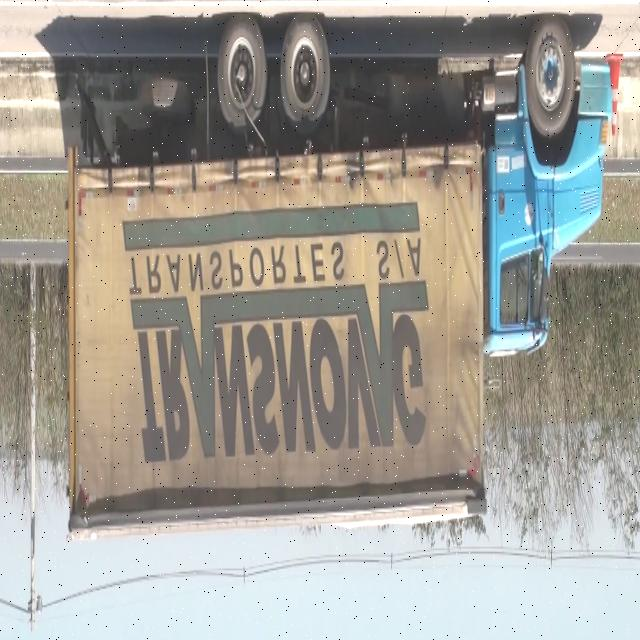-axle: (280, 15, 332, 129), (222, 13, 268, 138), (526, 19, 576, 134)
